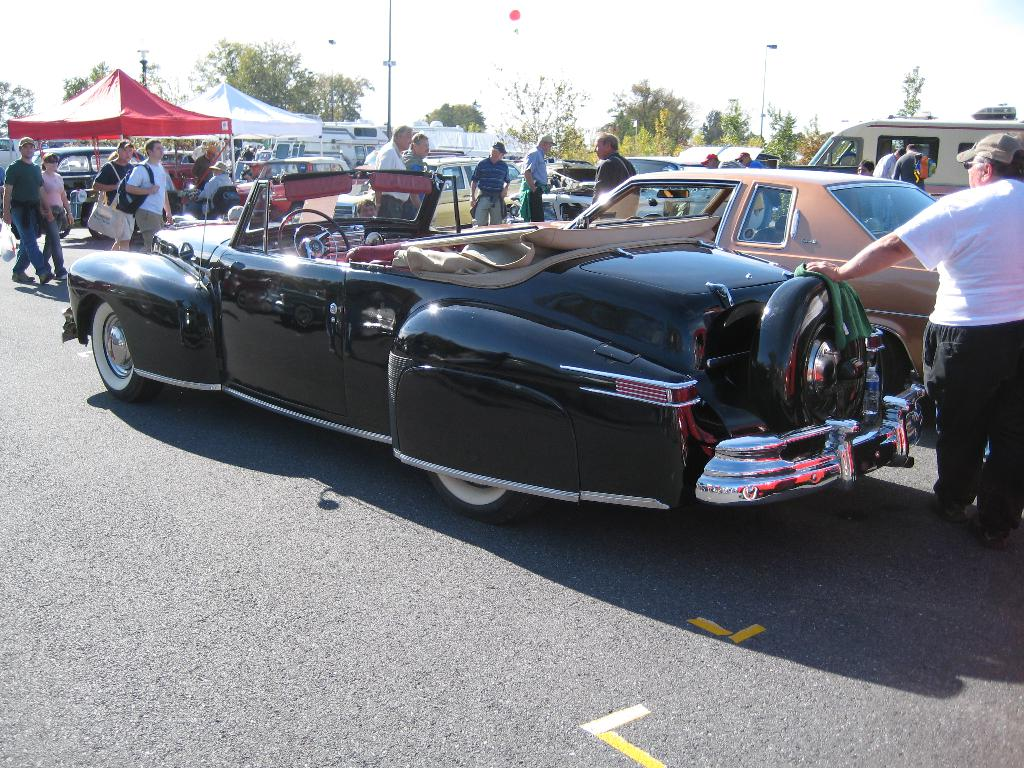Car: (455, 172, 937, 401), (234, 136, 435, 216), (39, 145, 145, 232)
